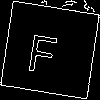F: (24, 25, 61, 75)
